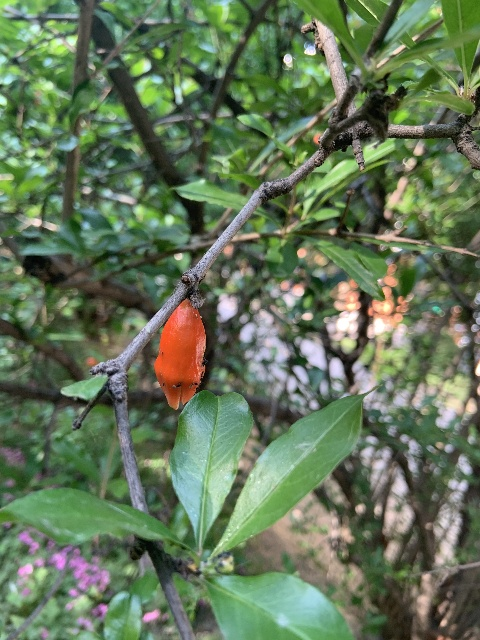bud: (154, 297, 205, 409)
